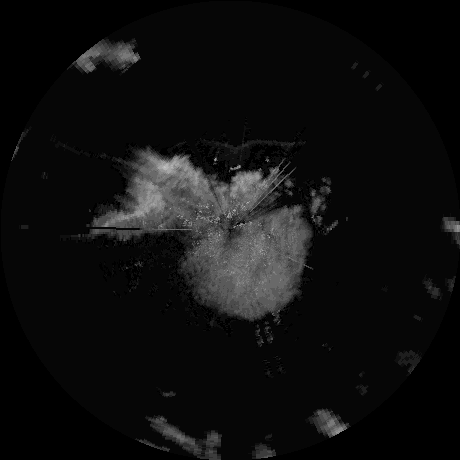frontgust: (202, 137, 309, 155)
